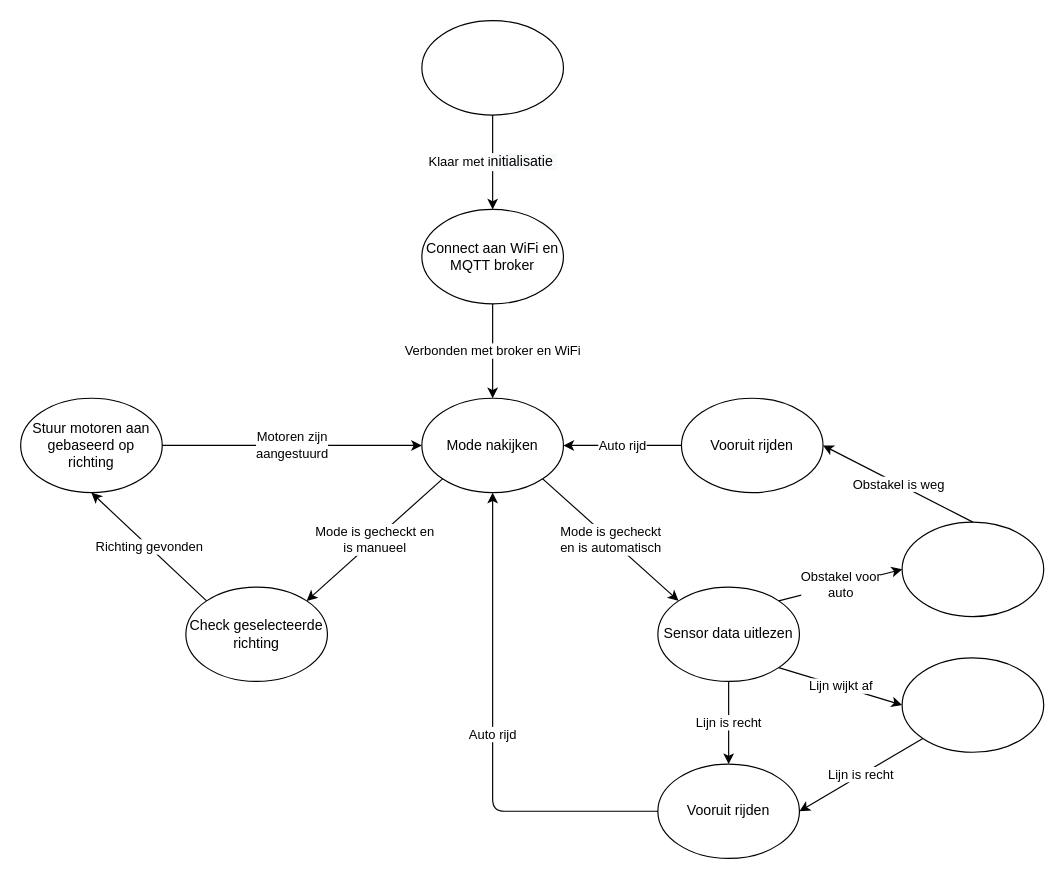
Some shapes in this 1064 by 879 pixel diagram are drawn without their labels. The shapes that lost their labels are listed below. From the top down, each one's box as (x1, y1, x2, y2) in pixels, then its label:
(421, 19, 563, 115): Initialisatie I/O, WiFi en MQTT
(901, 521, 1044, 617): Motoren stoppen
(901, 657, 1044, 752): Corrigeer auto
